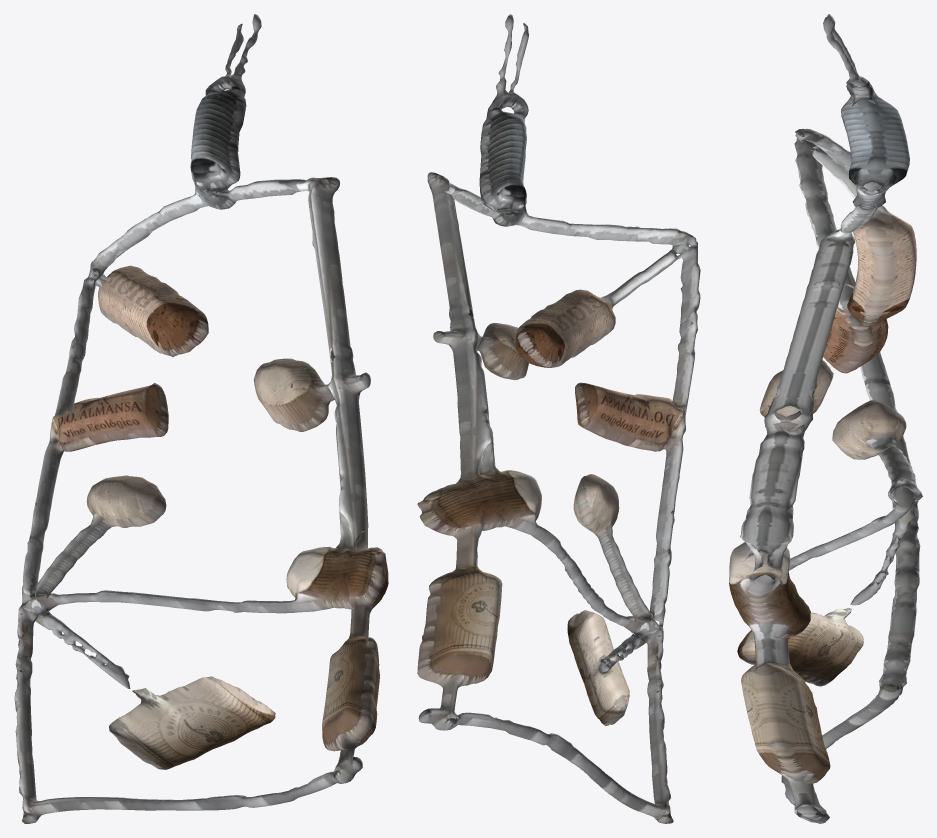
File: hy3d-mov-007.glb
3 renders of one model, left to right at view 1: azimuth 30°, elevation 25°; view 2: azimuth 150°, elevation 25°; view 3: azimuth 270°, elevation 25°, orthographic. The views are drawn at different scales.
Visible parts, largest first — view 1: world; view 2: world; view 3: world.
Boxes of the visible parts, bbox=[...] form: world: bbox=[14, 14, 388, 823]; world: bbox=[417, 14, 700, 823]; world: bbox=[729, 14, 922, 823].
Size of the model in its own units: 1.06 by 2.51 by 0.5718.
1 material, 1 textured.
